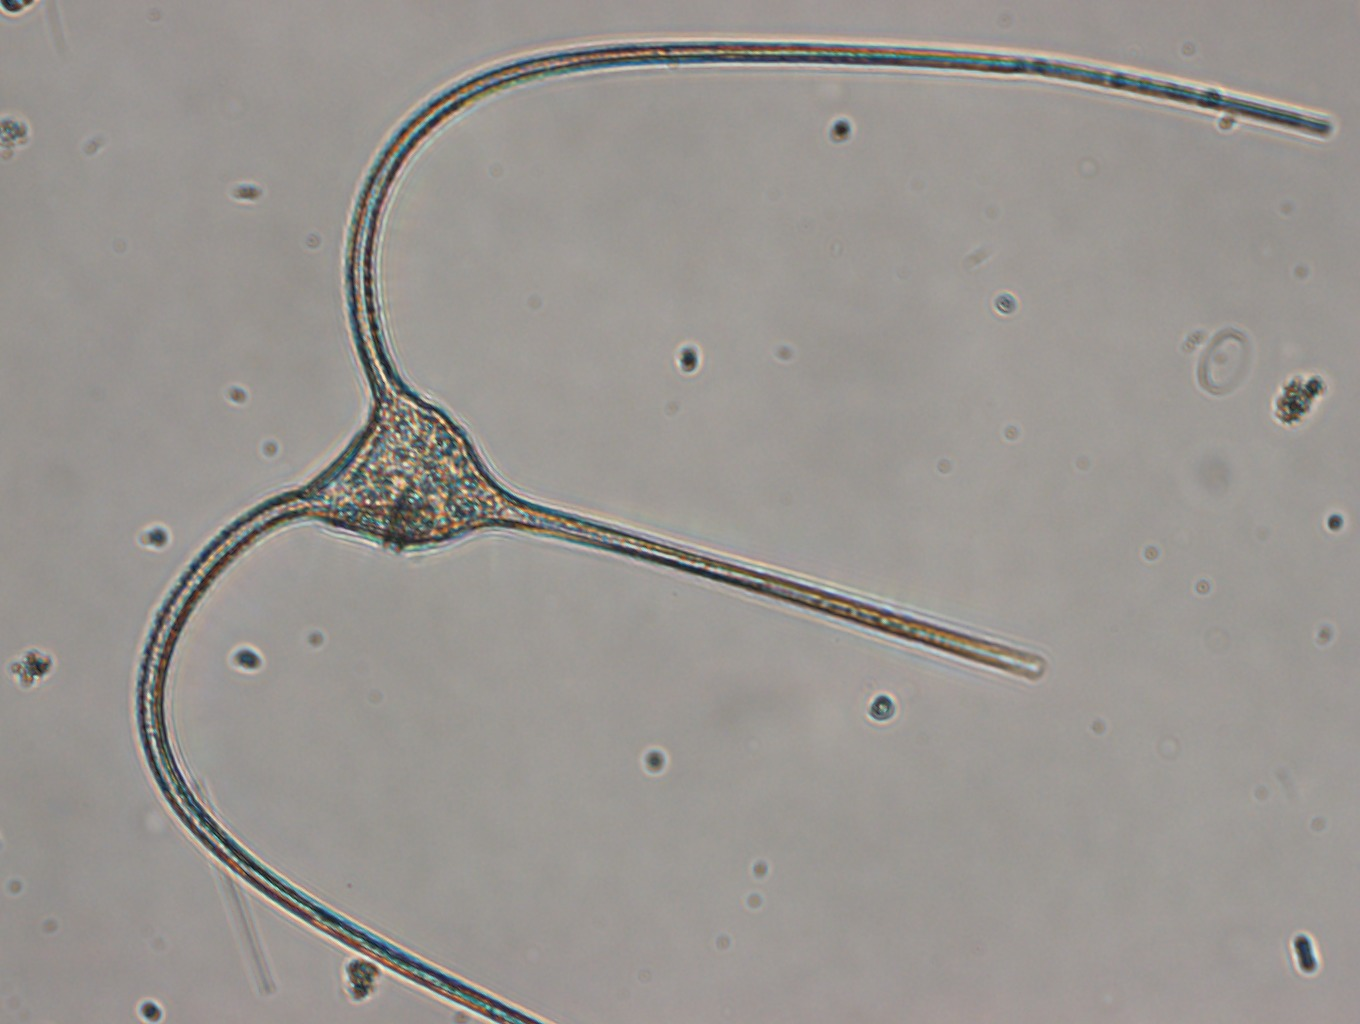ceratium trichoceros: (123, 34, 1360, 1024)
